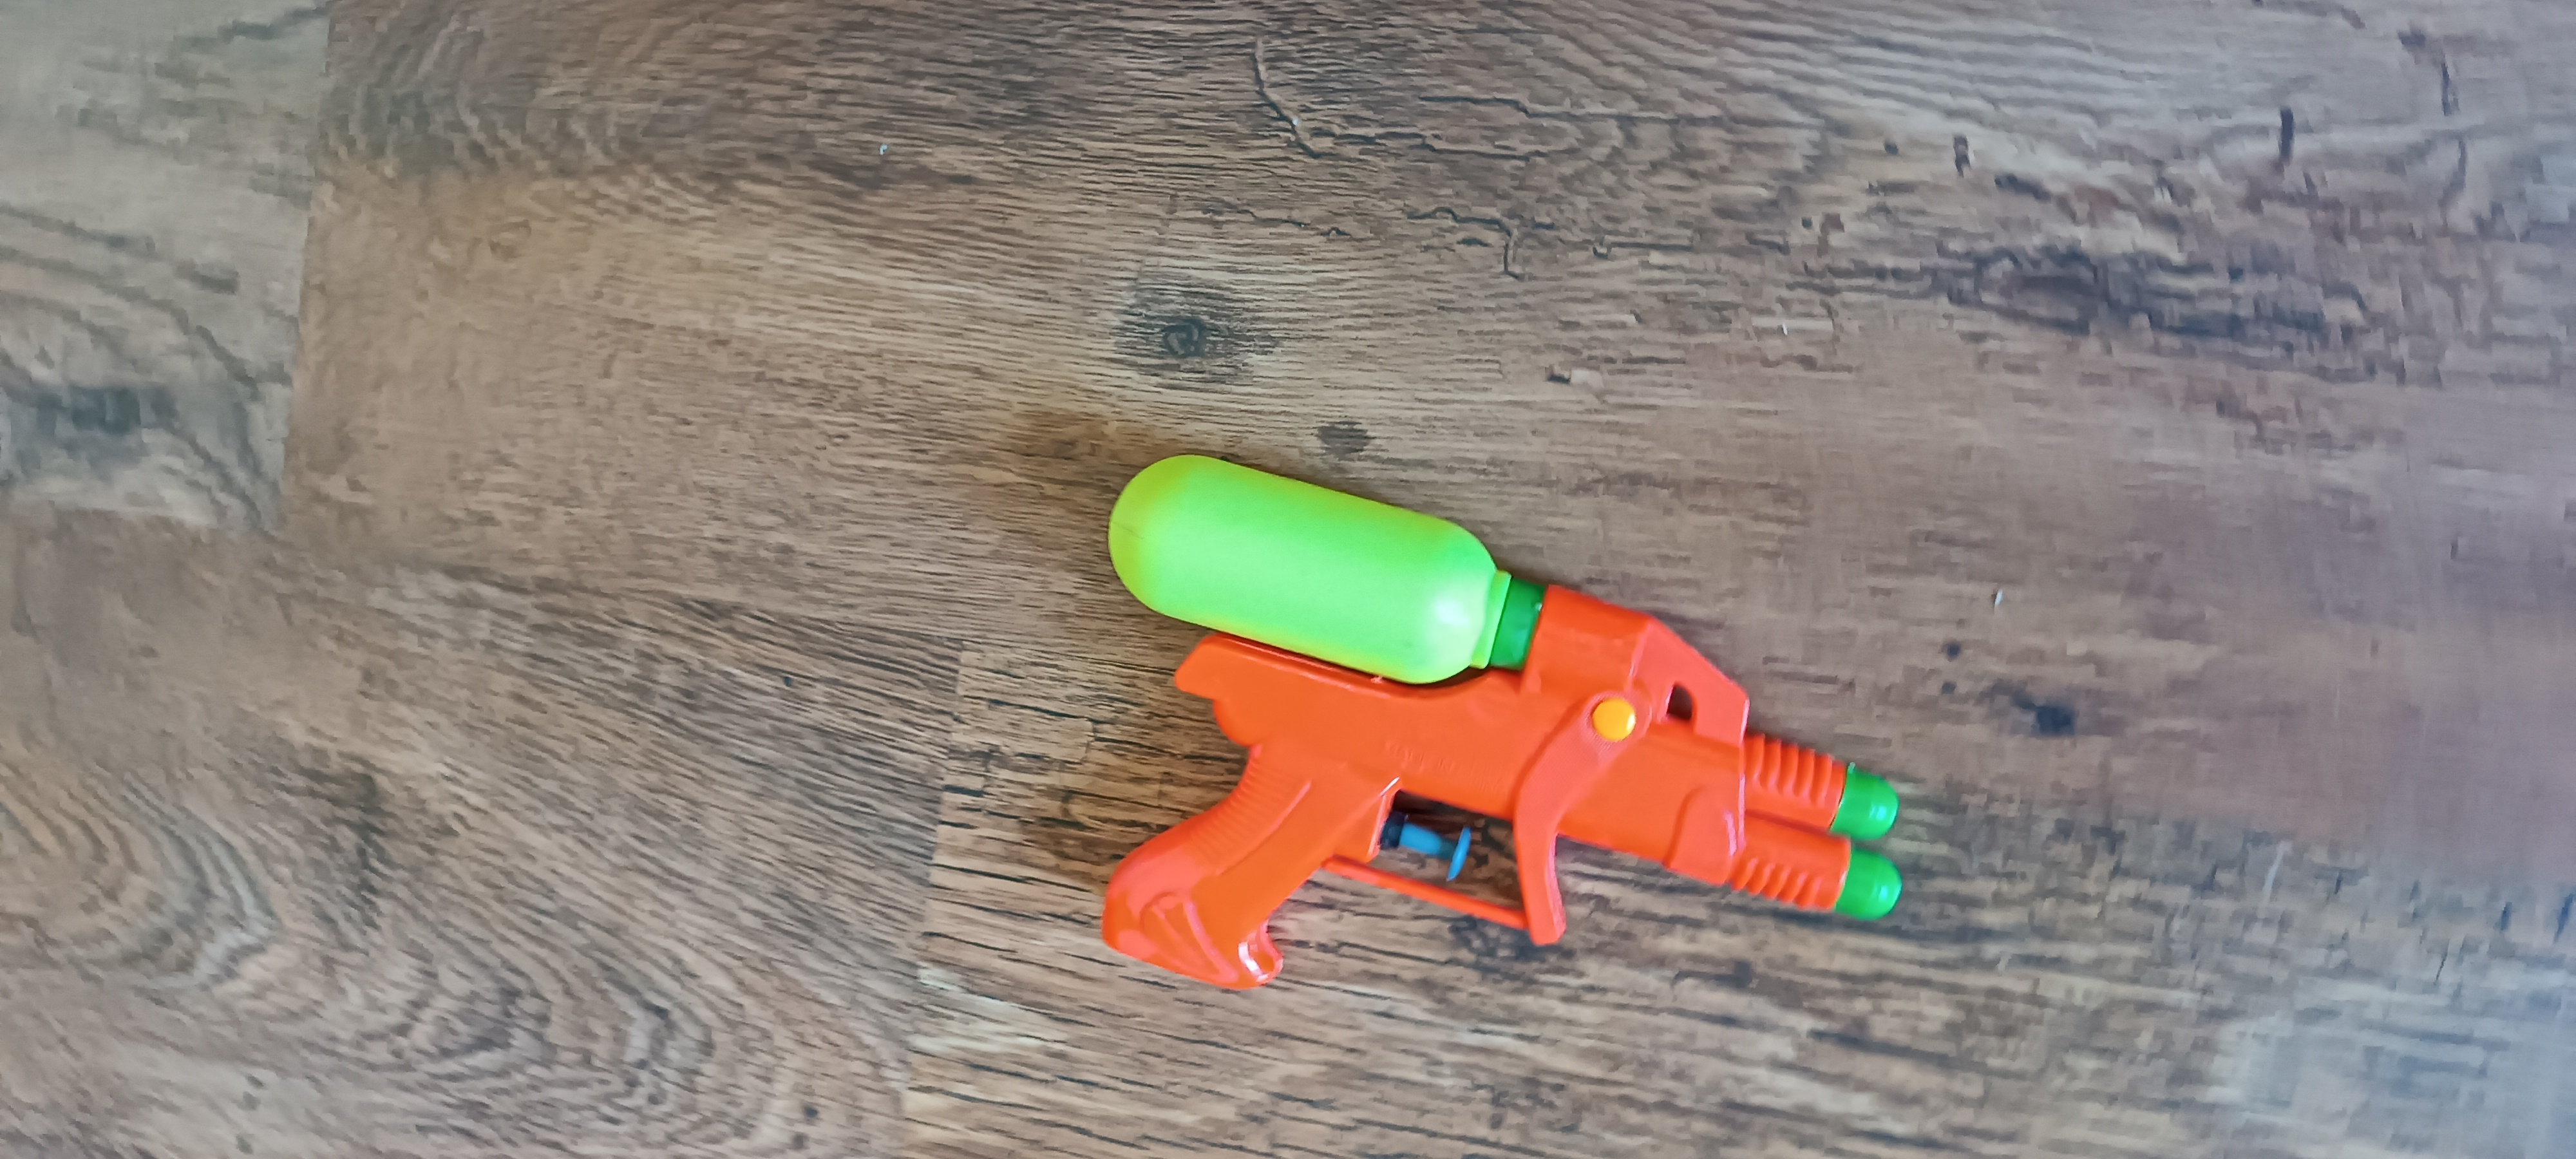Water Gun: (1101, 451, 1904, 988)
